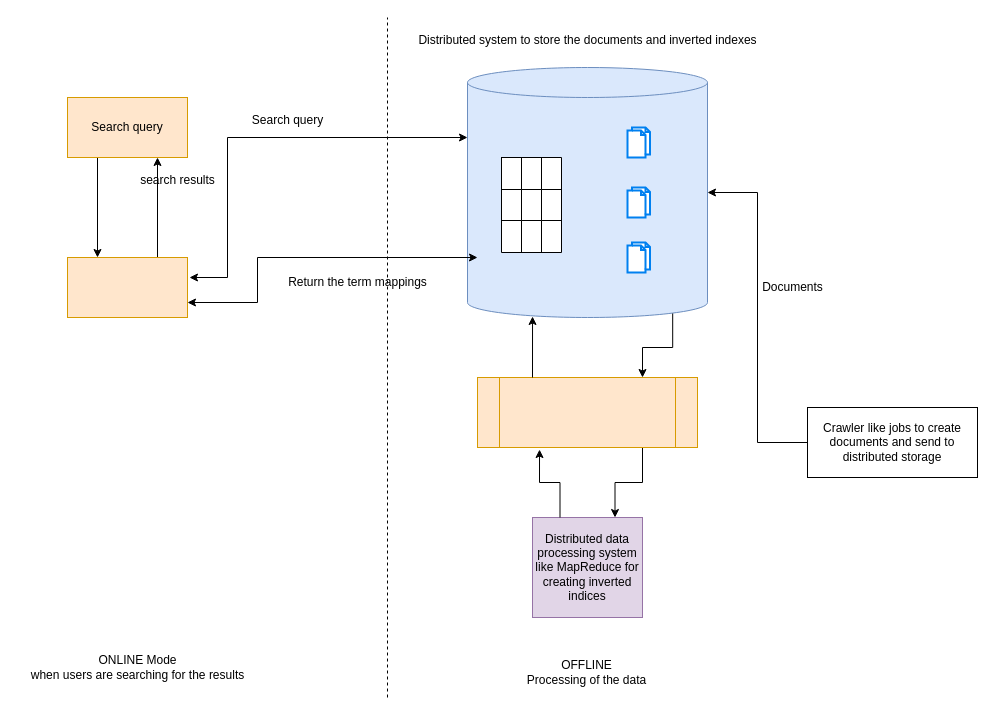
This 995x716 diagram has some shape labels left out. Each missing label, with the centre of its shape:
"Indexer" belongs at (x=587, y=412).
"Searcher" belongs at (x=127, y=287).
